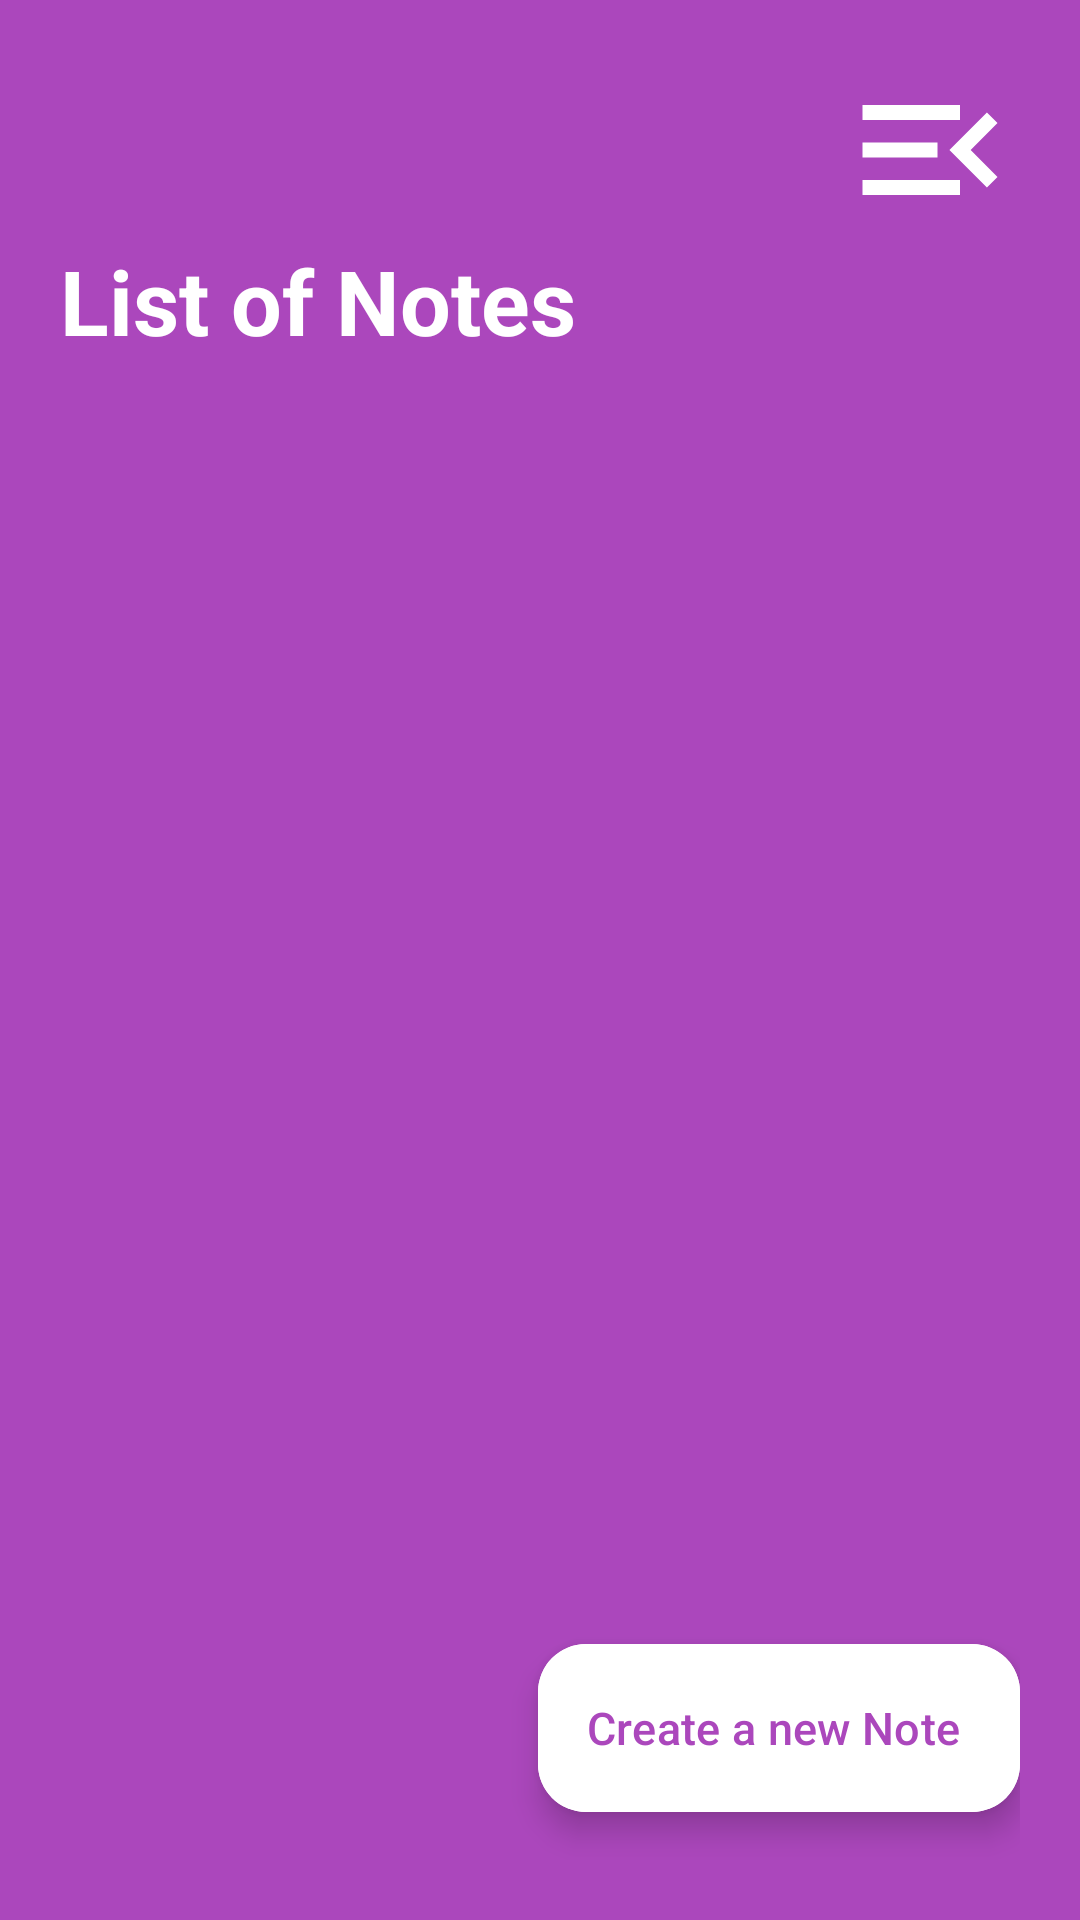

Screen size 1080px x 1920px. Icon name, then its box in pixels as (x1, y1, x2, y2):
menu: (862, 105, 997, 195)
